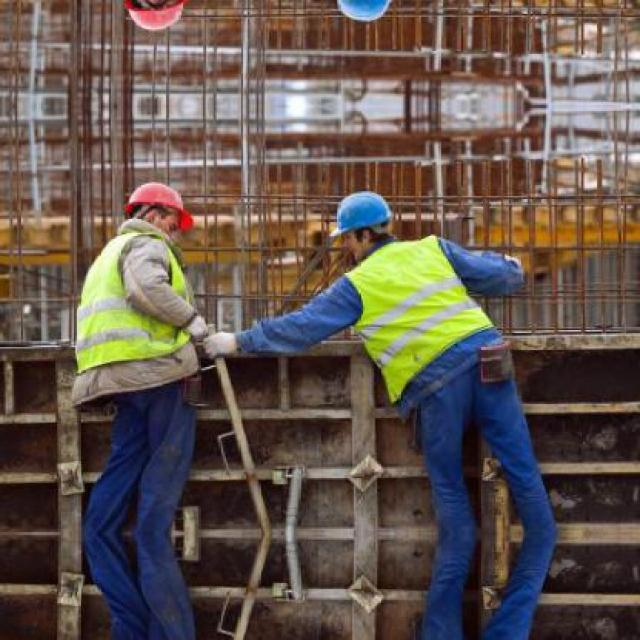Reflective-Jacket: (330, 241, 524, 407), (60, 230, 206, 387)
Safety-Helmet: (112, 171, 205, 241), (322, 180, 402, 246)
